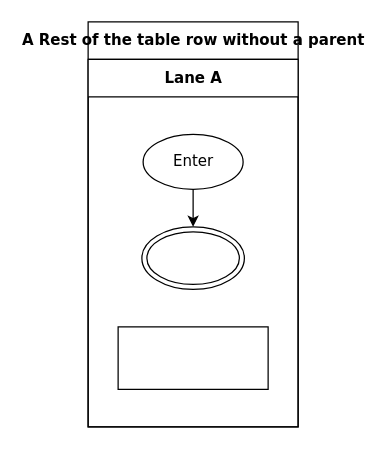
Some shapes in this 385 by 449 pixel diagram are drawn without their labels. The centre of each missing label's shape, as x and y in pixels:
Detached task: (x=192, y=357)
Done: (x=192, y=257)
